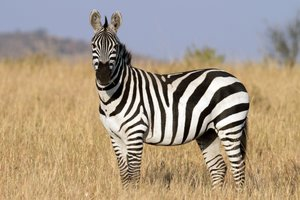zebra: (85, 5, 252, 192)
